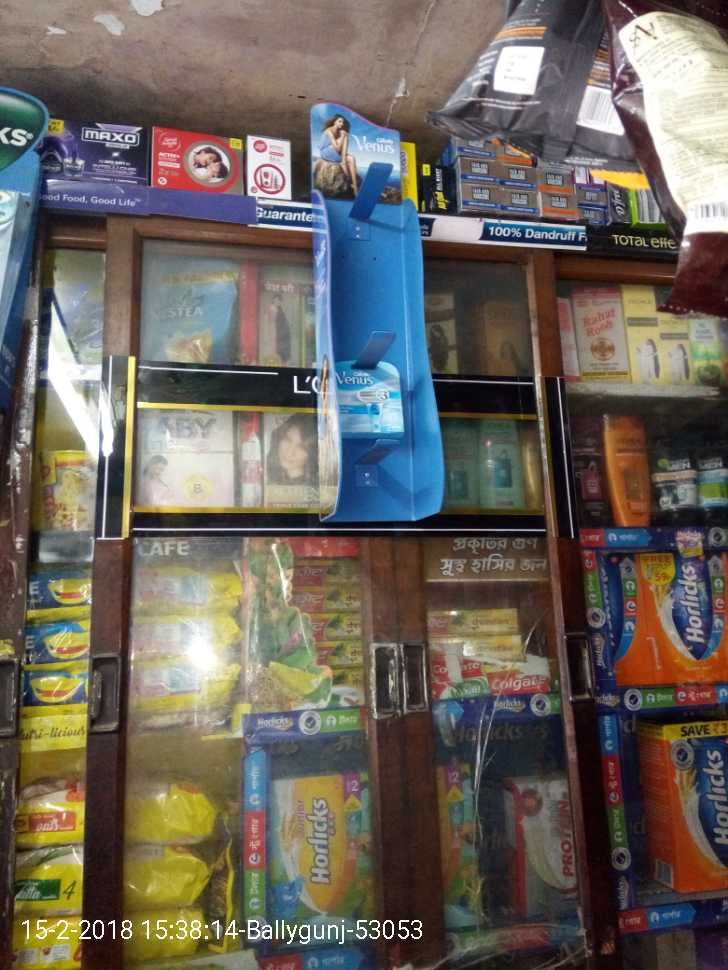venus: (329, 350, 407, 434)
